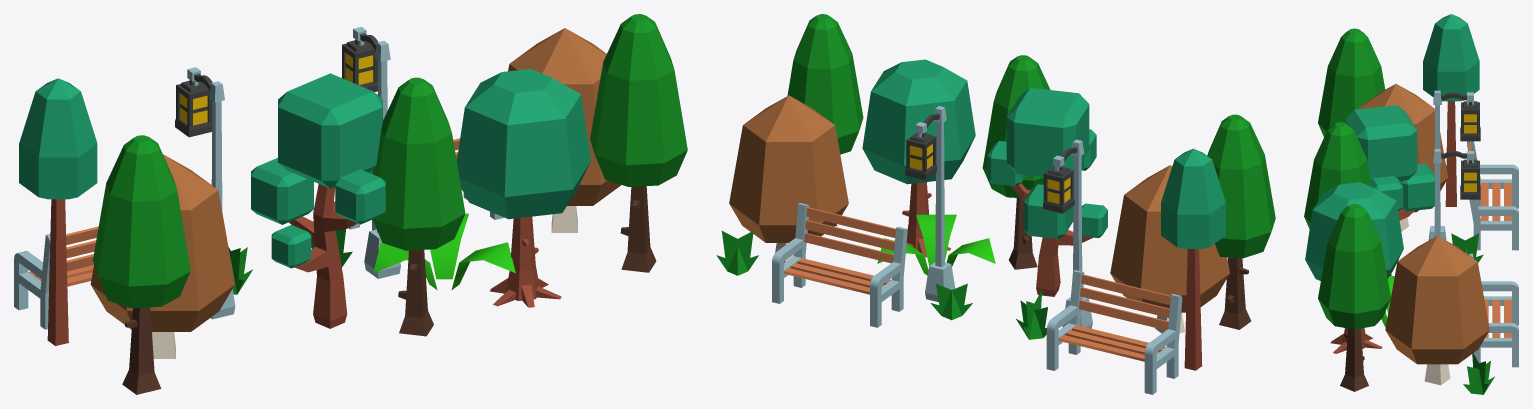
The model's file is park.fbx.
3 views of the same model, side by side, from view 1: azimuth 30°, elevation 25°; view 2: azimuth 150°, elevation 25°; view 3: azimuth 270°, elevation 25° (orthographic). The views are drawn at different scales.
Visible parts, largest first — view 1: mergedBlocks; view 2: mergedBlocks; view 3: mergedBlocks.
Boxes of the visible parts, x1,y1,x2,y2 form: mergedBlocks: (14, 14, 687, 394); mergedBlocks: (716, 14, 1275, 394); mergedBlocks: (1304, 14, 1518, 394).
Size of the model in its own units: 35.42 by 15.19 by 15.53.
